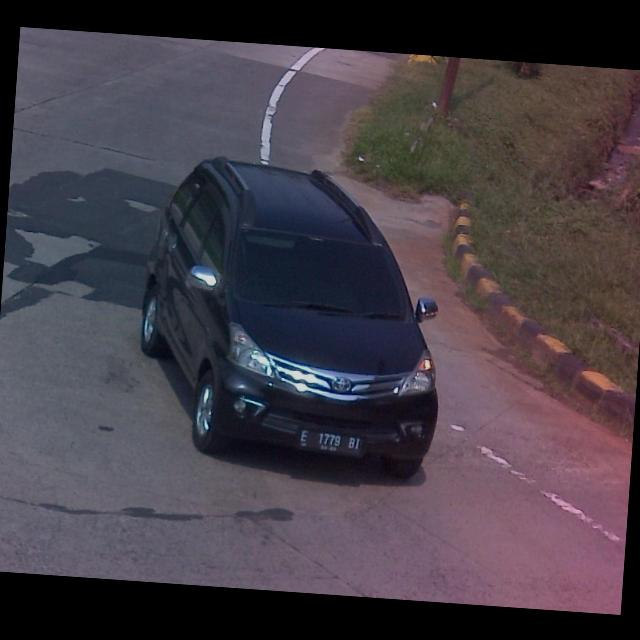plate: (293, 424, 367, 458)
